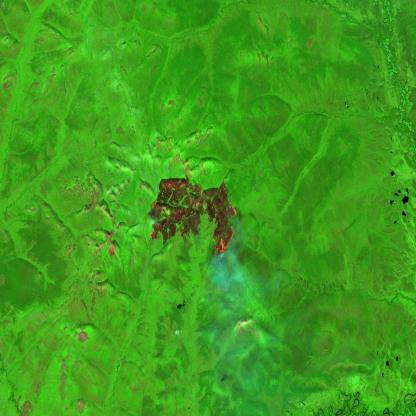fire: (147, 176, 239, 256)
